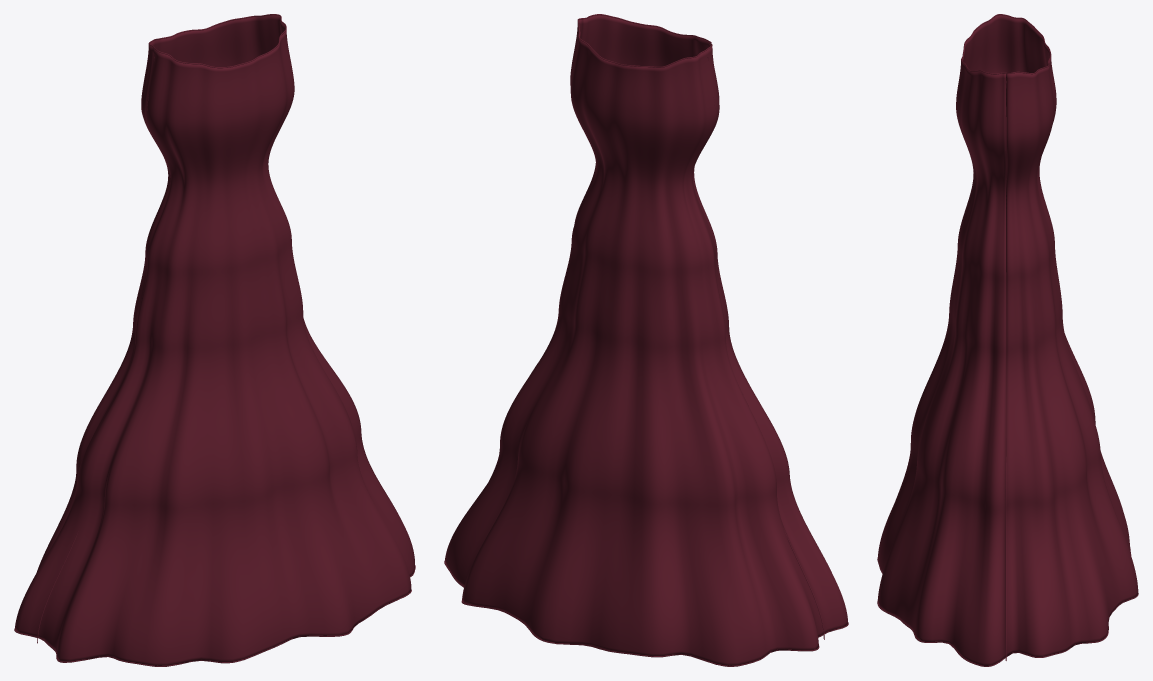
Rendered from structured-gown.glb.
The picture shows the model from 3 angles, left to right: view 1: azimuth 30°, elevation 25°; view 2: azimuth 150°, elevation 25°; view 3: azimuth 270°, elevation 25°; orthographic projection. The views are drawn at different scales.
Parts seen in each view (by area): view 1: Structured_Gown_Body, Structured_Gown_Hem; view 2: Structured_Gown_Body, Structured_Gown_Hem; view 3: Structured_Gown_Body, Structured_Gown_Side_Seam.001, Structured_Gown_Hem, Structured_Gown_Neckline.
Part boxes in pixels (box(x1,y1,x2,y2)): Structured_Gown_Body: box(14, 15, 414, 666); Structured_Gown_Hem: box(14, 565, 415, 666); Structured_Gown_Body: box(445, 15, 848, 666); Structured_Gown_Hem: box(444, 561, 848, 666); Structured_Gown_Body: box(877, 15, 1138, 665); Structured_Gown_Side_Seam.001: box(1005, 81, 1006, 660); Structured_Gown_Hem: box(877, 549, 1138, 666); Structured_Gown_Neckline: box(961, 14, 1051, 74).
Bounding box in the file's own units: 2.57 × 3.73 × 1.64.
